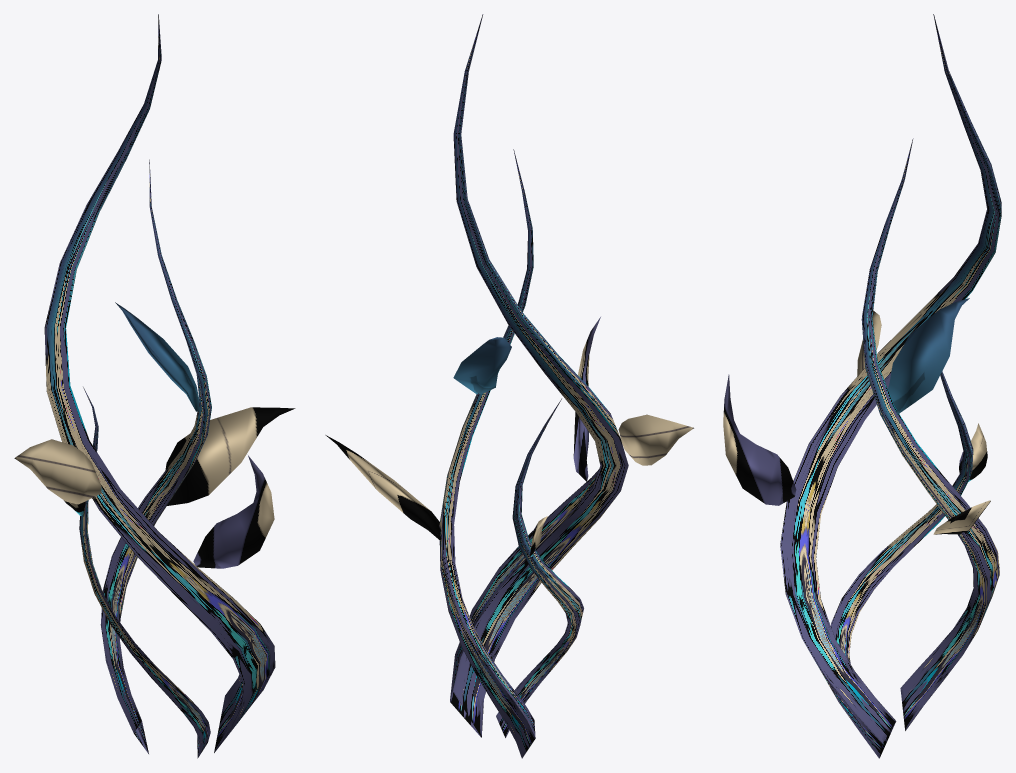
File: FX_xiezhi_cao.FBX
3 renders of one model, left to right at view 1: azimuth 30°, elevation 25°; view 2: azimuth 150°, elevation 25°; view 3: azimuth 270°, elevation 25°, orthographic. The views are drawn at different scales.
Visible parts, largest first — view 1: FX_xiezhi_cao; view 2: FX_xiezhi_cao; view 3: FX_xiezhi_cao.
Boxes of the visible parts, x1,y1,x2,y2 form: FX_xiezhi_cao: (14,14,295,758); FX_xiezhi_cao: (325,14,693,758); FX_xiezhi_cao: (723,14,1001,758).
Size of the model in its own units: 11.98 by 26.04 by 8.99.
